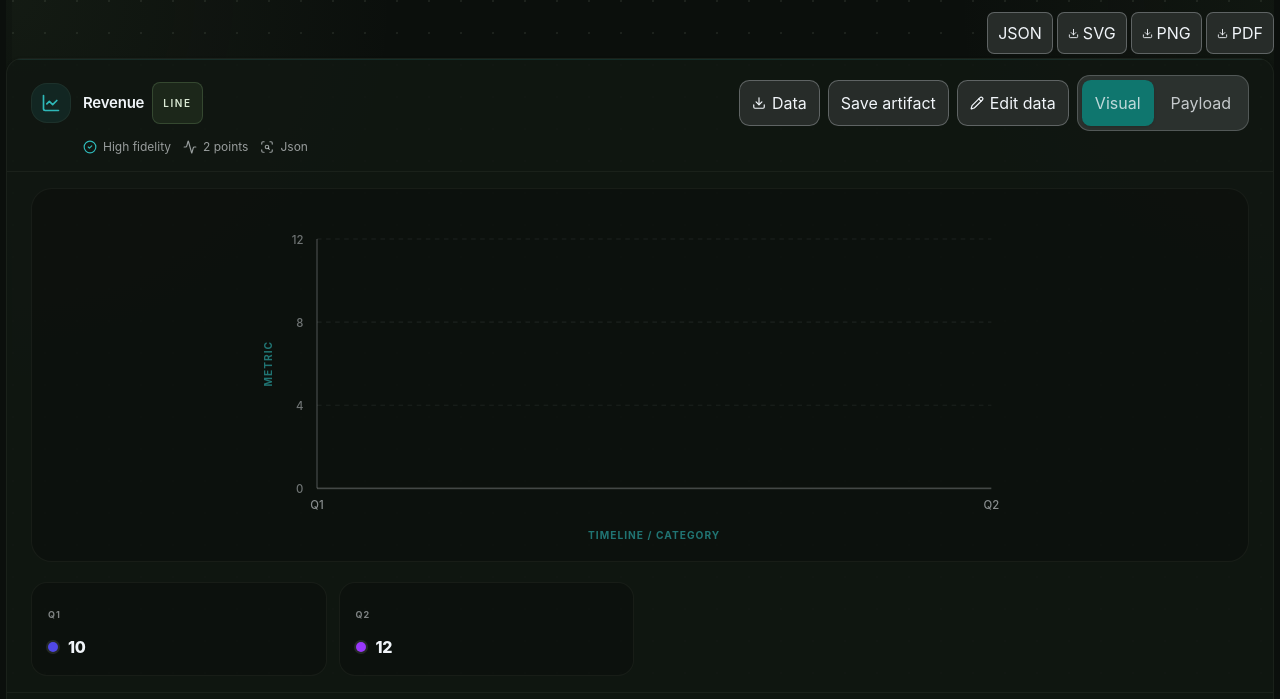
Test case: DeepSpace markdown streaming › shows rejected chart Library saves beside the chart controls
Click the button with aria-label "Save chart artifact" at (888, 103), box [828, 80, 949, 126]
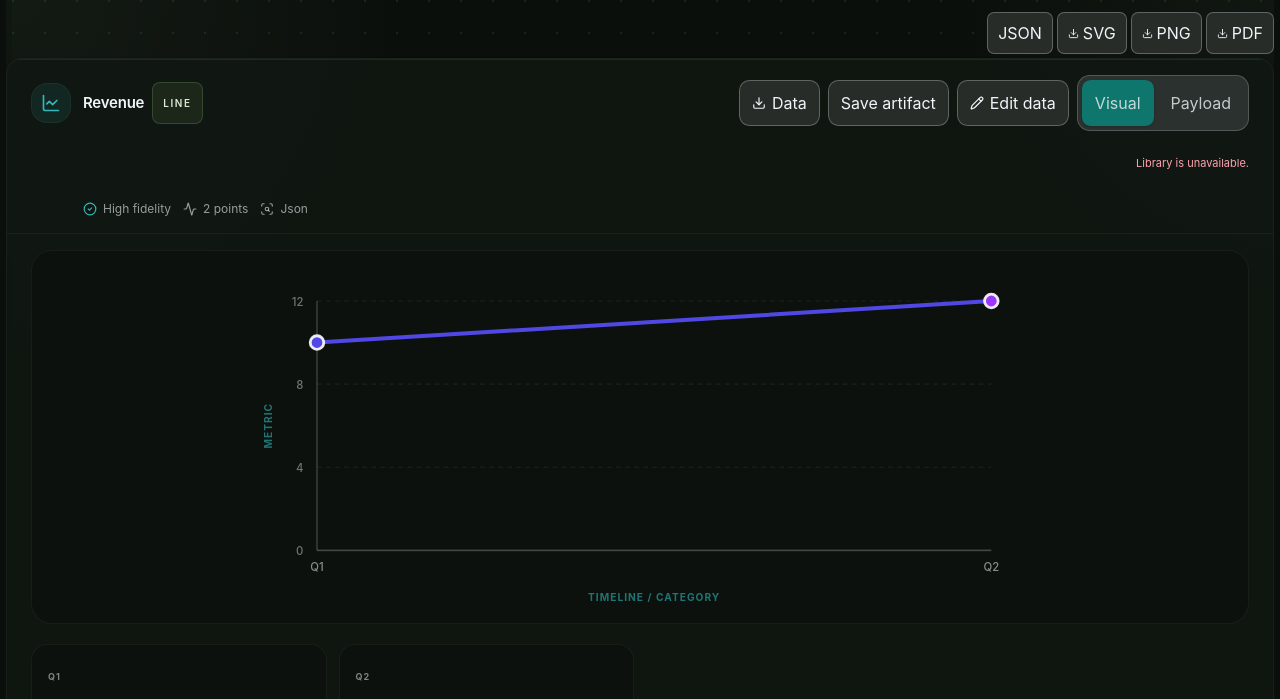
Now the message reads "Library is unavailable.", box [1136, 156, 1249, 170]
